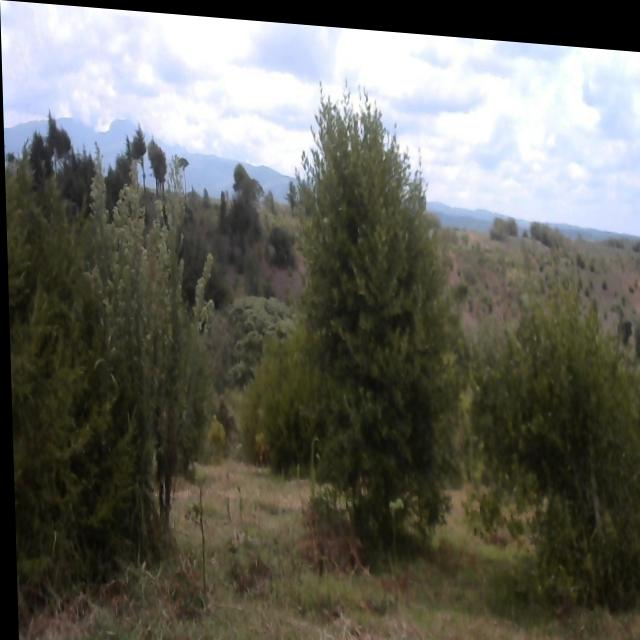Salix alba: (295, 101, 459, 534), (465, 278, 640, 600)
cedrus: (4, 165, 94, 586), (124, 105, 147, 206), (39, 100, 69, 177), (147, 130, 171, 210)
